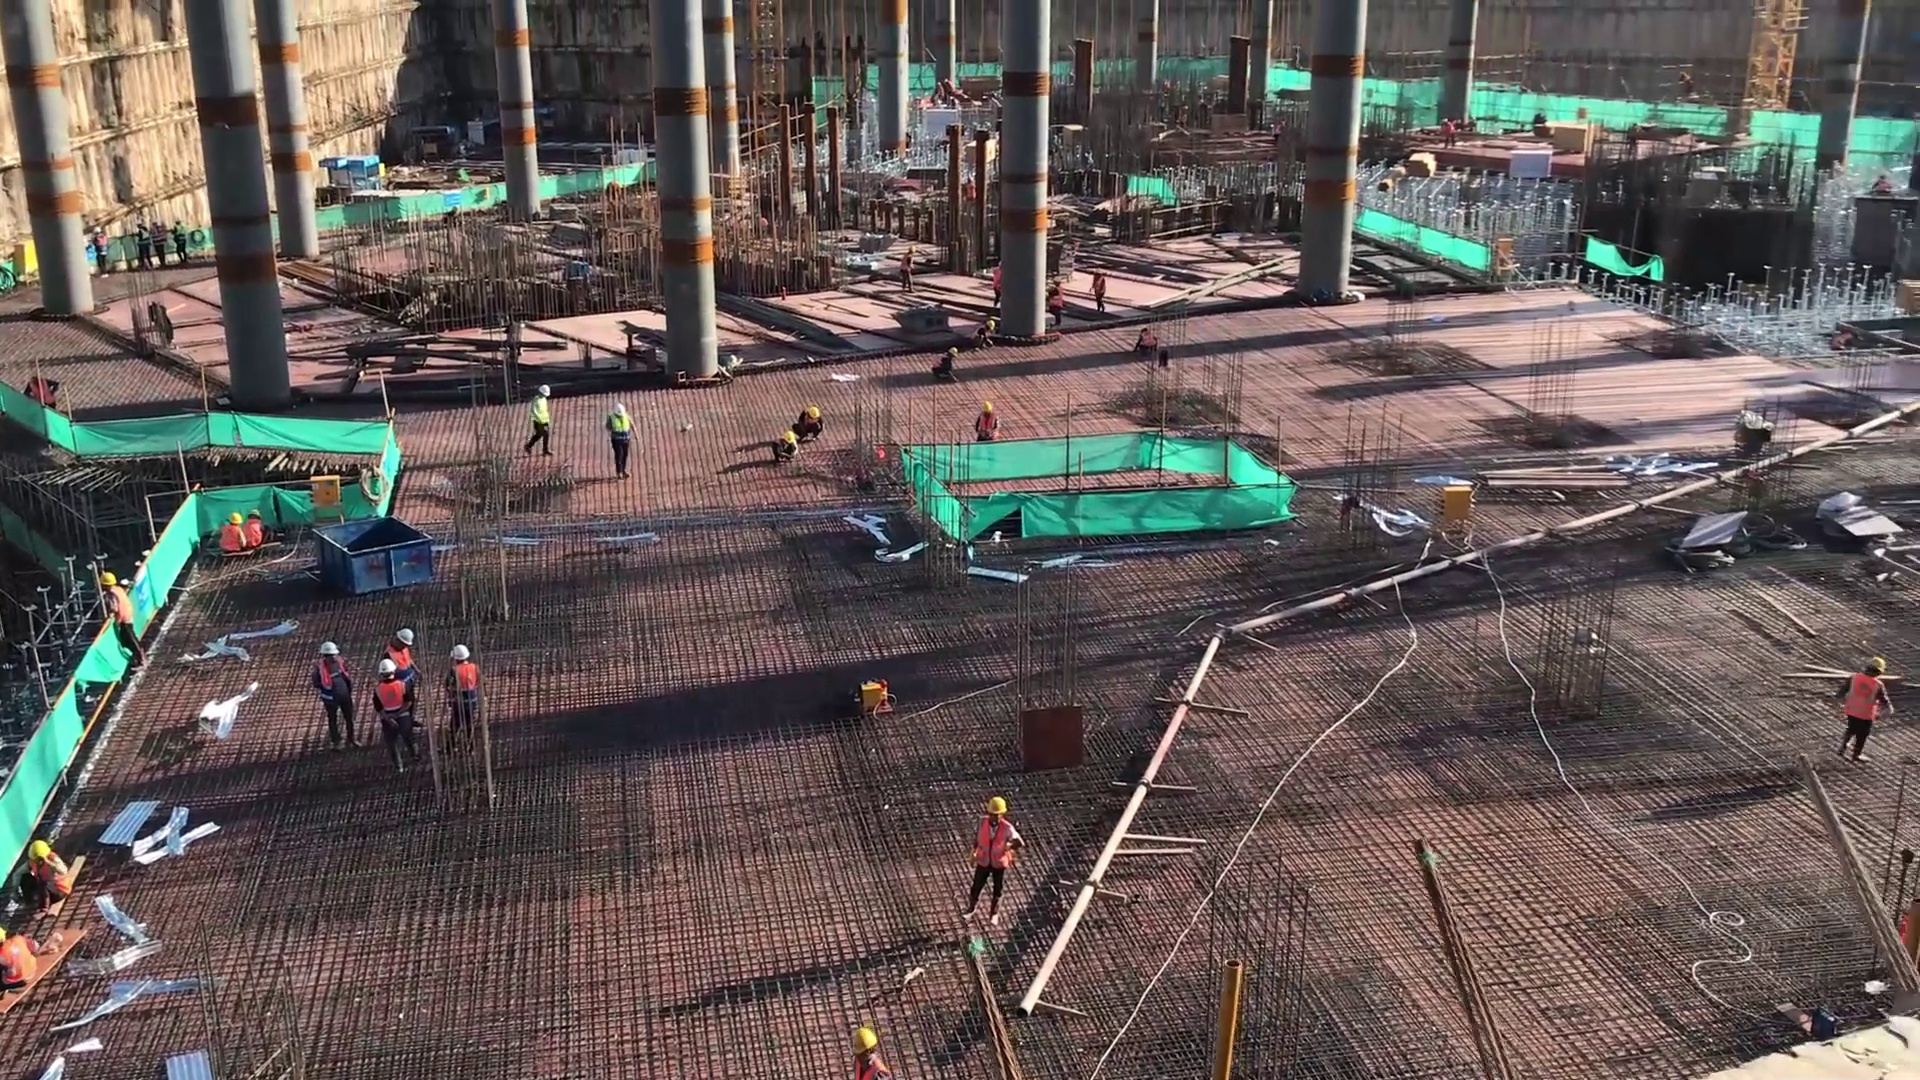helmet: (846, 1021, 882, 1057), (24, 835, 53, 863), (390, 621, 416, 650), (984, 791, 1008, 819), (1865, 653, 1891, 677), (92, 565, 117, 587), (314, 638, 340, 659), (447, 642, 470, 663), (608, 399, 629, 419), (376, 659, 400, 677), (805, 404, 822, 423), (974, 399, 996, 416), (224, 508, 242, 525), (537, 381, 553, 401), (241, 508, 262, 520), (783, 431, 799, 445), (946, 344, 961, 358), (905, 243, 920, 254), (1136, 323, 1152, 334), (1093, 265, 1108, 277), (1051, 276, 1064, 287), (985, 319, 995, 333)
person: (960, 790, 1029, 923), (1830, 653, 1902, 770), (303, 636, 363, 750), (93, 564, 154, 672), (370, 659, 424, 777), (436, 640, 492, 749), (9, 835, 76, 920), (380, 623, 426, 707), (520, 377, 563, 465), (600, 399, 645, 482), (1, 921, 47, 1000), (836, 1021, 895, 1080), (213, 506, 249, 557), (969, 397, 1007, 443), (929, 342, 962, 384), (1084, 264, 1112, 315), (240, 506, 267, 558), (1043, 275, 1068, 330), (897, 240, 921, 294), (794, 404, 826, 443), (971, 318, 1001, 355), (770, 429, 802, 463), (1129, 324, 1161, 359)
vest: (1, 931, 42, 988), (1840, 671, 1883, 724), (313, 661, 353, 712), (978, 823, 1017, 874), (447, 661, 482, 714), (371, 681, 408, 729), (104, 586, 136, 630), (35, 860, 74, 895), (607, 417, 638, 450), (392, 647, 419, 684), (214, 525, 249, 551), (531, 398, 557, 431), (853, 1060, 891, 1080), (243, 518, 264, 546), (976, 419, 1002, 441), (1045, 289, 1065, 310), (1090, 276, 1107, 300), (1136, 332, 1158, 347), (899, 256, 914, 276)
